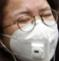with_mask: (1, 2, 59, 61)
